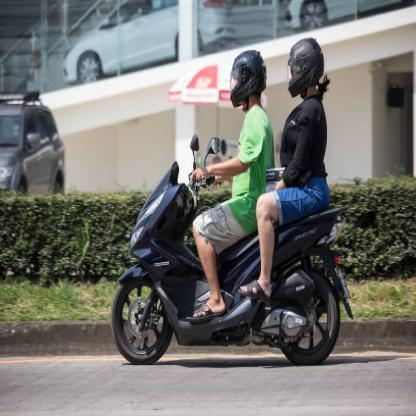Motorcycle: (105, 150, 345, 371)
